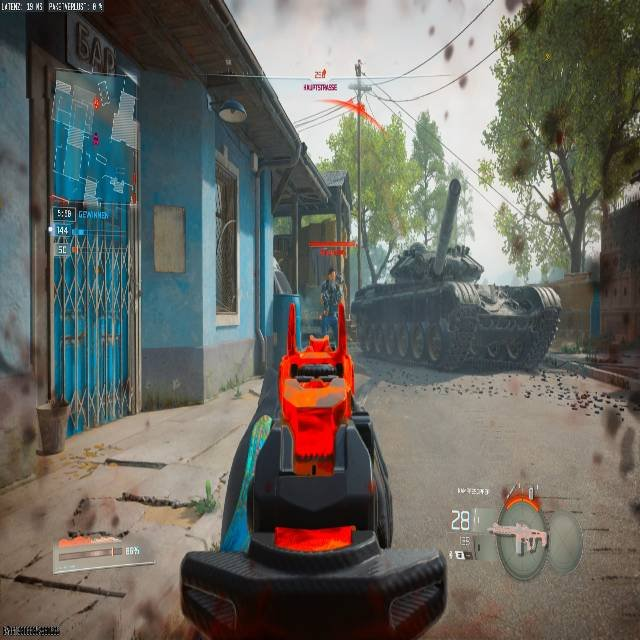head: (328, 267, 337, 281)
player: (316, 269, 343, 344), (354, 57, 365, 76)
